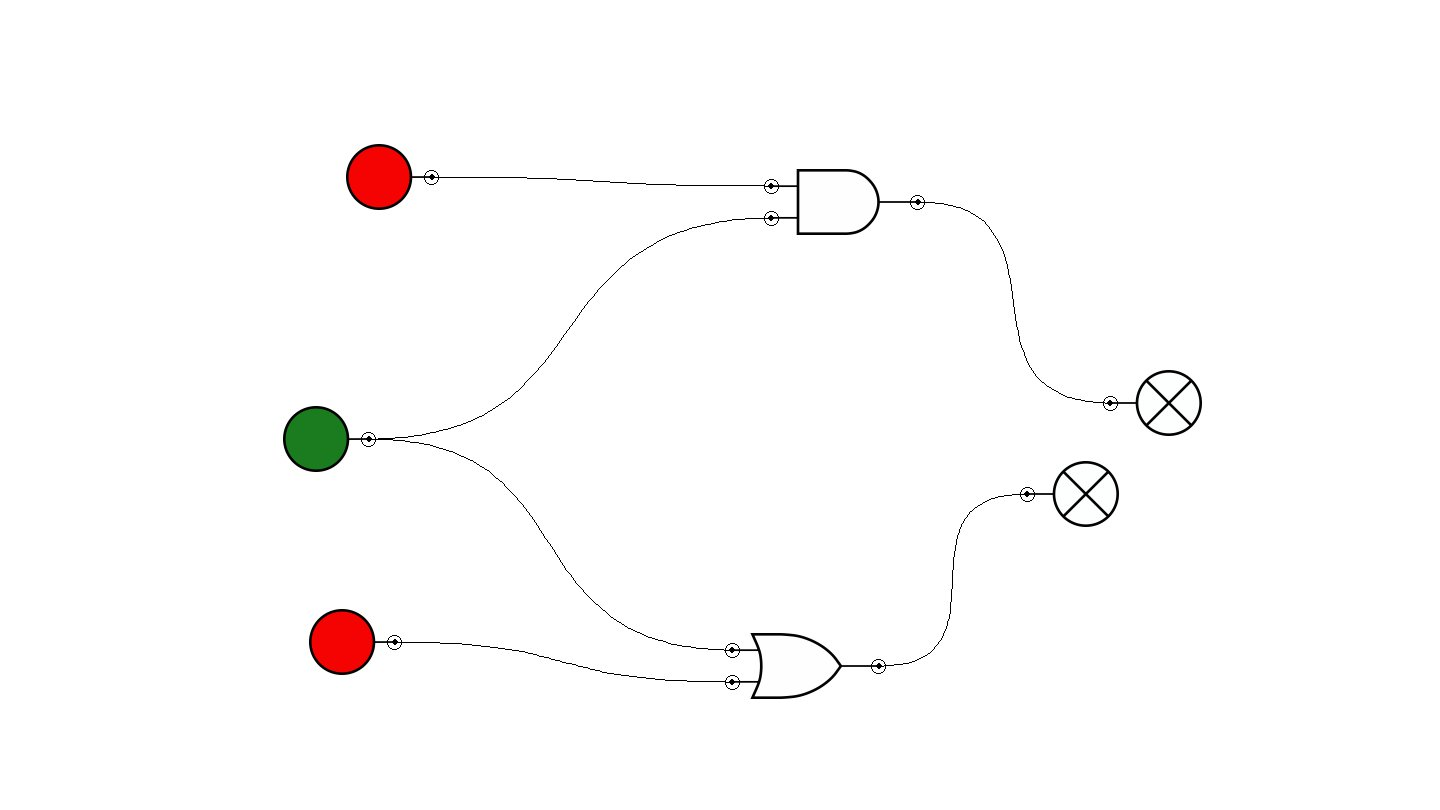and: (764, 169, 925, 235)
bulb: (1103, 370, 1202, 436), (1020, 461, 1119, 527)
or: (725, 633, 886, 699)
switch_False: (309, 609, 402, 675), (346, 144, 439, 210)
switch_True: (283, 406, 376, 472)
